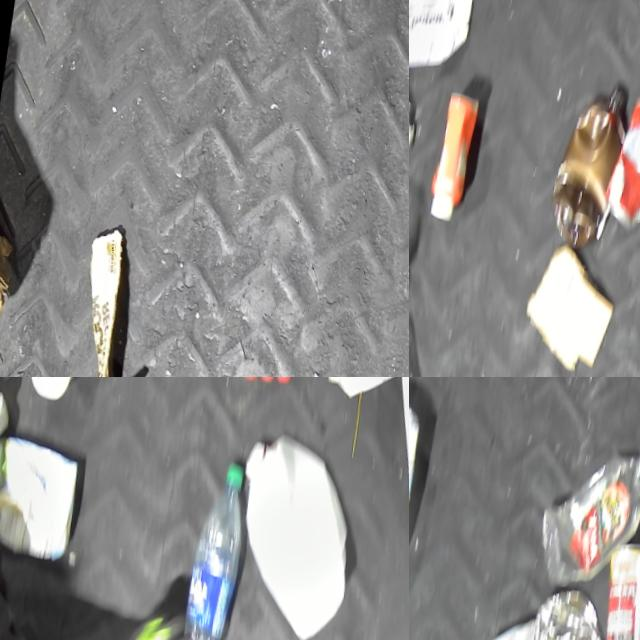can: (580, 523, 640, 640), (517, 573, 618, 640), (605, 81, 640, 228), (25, 377, 94, 404)
milk_jug: (224, 419, 366, 640), (0, 430, 82, 562)
plastic_bottle: (532, 404, 640, 603), (179, 446, 254, 640)
